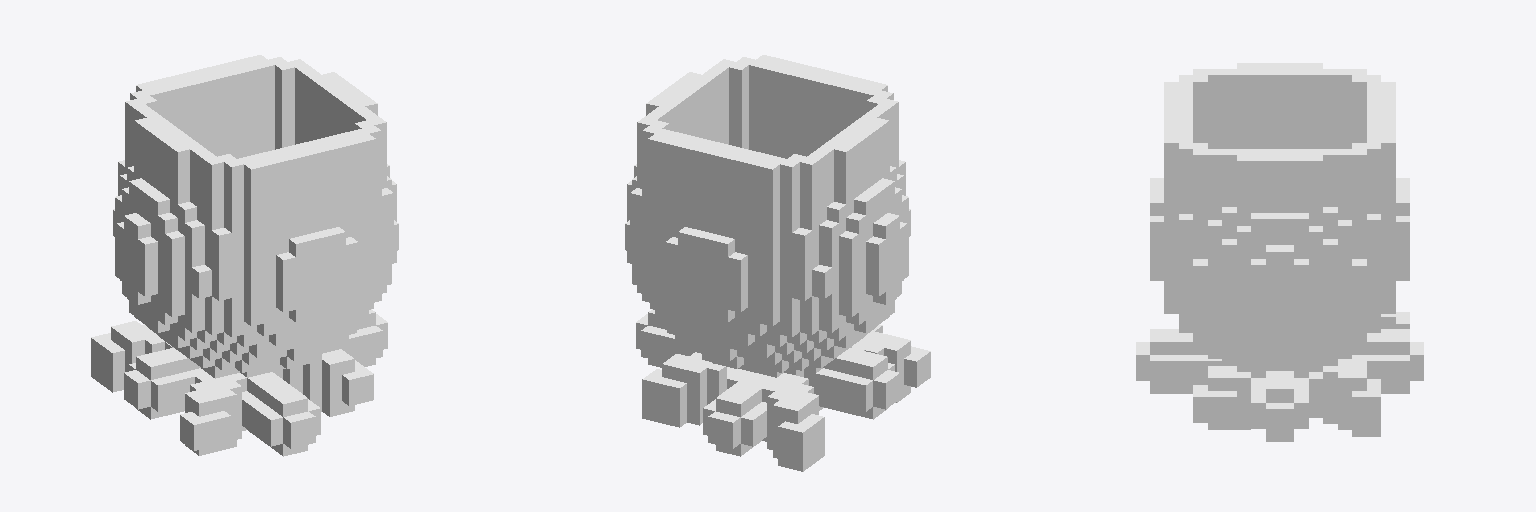
The model's file is Crockpot.obj.
The picture shows the model from 3 angles: view 1: azimuth 30°, elevation 25°; view 2: azimuth 150°, elevation 25°; view 3: azimuth 270°, elevation 25°; orthographic projection.
Parts seen in each view (by area): view 1: object 1; view 2: object 1; view 3: object 1.
Part boxes in pixels (x1,y1,x2,y2): object 1: (91, 55, 398, 456); object 1: (625, 55, 930, 471); object 1: (1136, 63, 1423, 441).
Size of the model in its own units: 2 by 2.2 by 2.